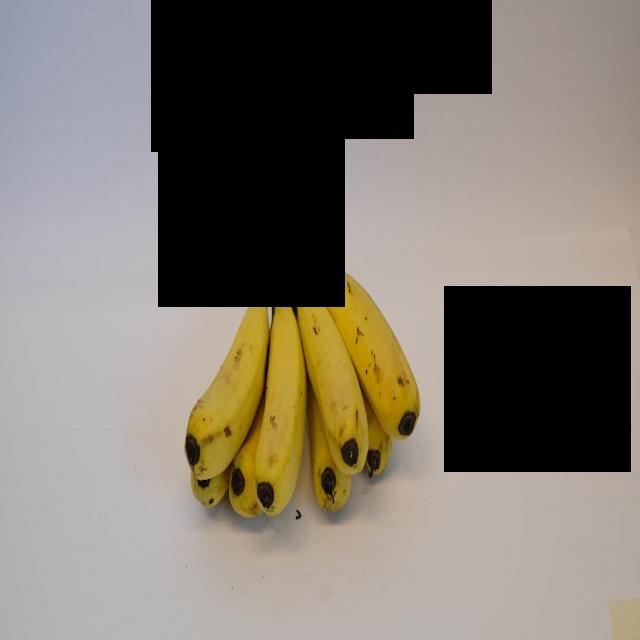banana: (300, 218, 431, 446), (180, 247, 274, 491), (283, 239, 372, 476), (247, 250, 309, 520)
